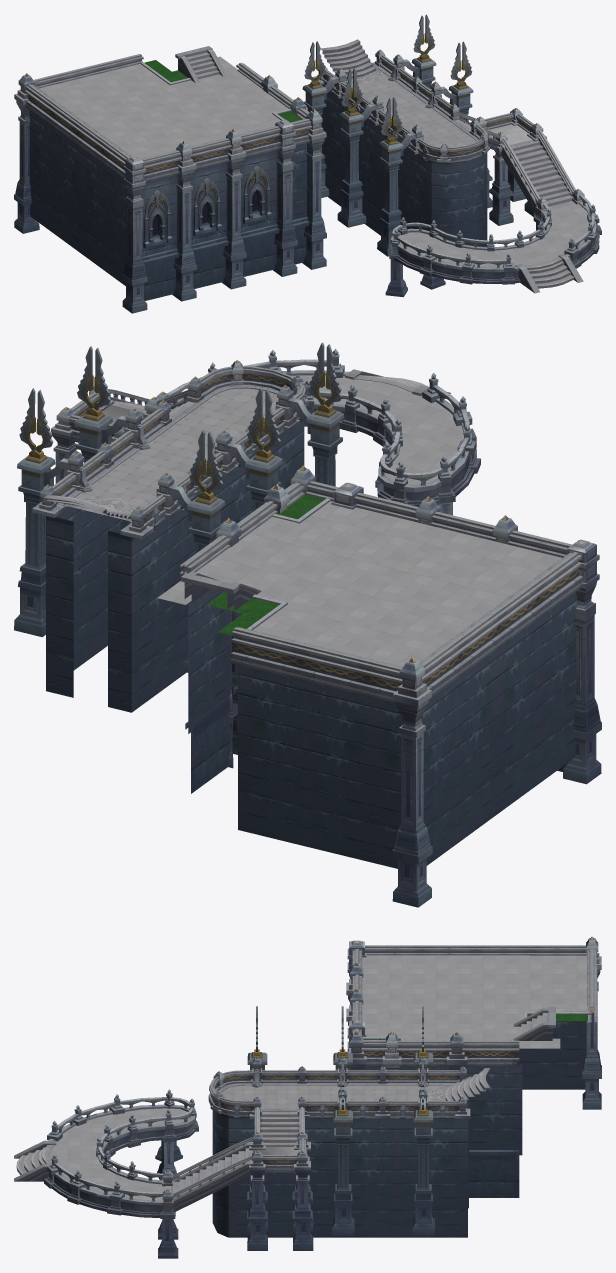
The model's file is zhuchengjianzhu_1.FBX.
3 renders of one model, top to bottom at view 1: azimuth 30°, elevation 25°; view 2: azimuth 150°, elevation 25°; view 3: azimuth 270°, elevation 25°, orthographic. The views are drawn at different scales.
Parts seen in each view (by area): view 1: zhucheng_qiangti011, zhucheng_xmjz, zhucheng_dimian011, zhucheng_xmq1, zhucheng_dimian1, zhucheng_tajjie03, zhucheng_dimian2, zhucheng_tj, zhucheng_shuixiataijie, zhucheng_xmtj, zhucheng_caoti02; view 2: zhucheng_qiangti011, zhucheng_xmjz, zhucheng_dimian011, zhucheng_xmq1, zhucheng_dimian2, zhucheng_dimian1, zhucheng_tj, zhucheng_caoti02; view 3: zhucheng_xmjz, zhucheng_qiangti011, zhucheng_dimian011, zhucheng_xmq1, zhucheng_dimian1, zhucheng_tajjie03, zhucheng_dimian2, zhucheng_tj, zhucheng_xmtj, zhucheng_shuixiataijie.
Part boxes in pixels (x1=…): zhucheng_qiangti011: x1=14, y1=54, x2=326, y2=313; zhucheng_xmjz: x1=302, y1=14, x2=584, y2=297; zhucheng_dimian011: x1=39, y1=56, x2=288, y2=158; zhucheng_xmq1: x1=389, y1=116, x2=601, y2=284; zhucheng_dimian1: x1=398, y1=124, x2=589, y2=267; zhucheng_tajjie03: x1=455, y1=119, x2=574, y2=215; zhucheng_dimian2: x1=351, y1=73, x2=476, y2=147; zhucheng_tj: x1=140, y1=46, x2=291, y2=120; zhucheng_shuixiataijie: x1=524, y1=257, x2=574, y2=288; zhucheng_xmtj: x1=515, y1=254, x2=583, y2=293; zhucheng_caoti02: x1=144, y1=60, x2=301, y2=122; zhucheng_qiangti011: x1=180, y1=465, x2=601, y2=907; zhucheng_xmjz: x1=14, y1=342, x2=452, y2=712; zhucheng_dimian011: x1=157, y1=501, x2=561, y2=666; zhucheng_xmq1: x1=109, y1=348, x2=480, y2=506; zhucheng_dimian2: x1=71, y1=388, x2=306, y2=520; zhucheng_dimian1: x1=101, y1=375, x2=463, y2=484; zhucheng_tj: x1=181, y1=498, x2=330, y2=630; zhucheng_caoti02: x1=207, y1=495, x2=324, y2=635; zhucheng_xmjz: x1=155, y1=1006, x2=490, y2=1258; zhucheng_qiangti011: x1=346, y1=936, x2=601, y2=1197; zhucheng_dimian011: x1=362, y1=955, x2=587, y2=1048; zhucheng_xmq1: x1=44, y1=1089, x2=244, y2=1218; zhucheng_dimian1: x1=50, y1=1108, x2=299, y2=1200; zhucheng_tajjie03: x1=166, y1=1111, x2=304, y2=1212; zhucheng_dimian2: x1=221, y1=1085, x2=449, y2=1108; zhucheng_tj: x1=363, y1=1007, x2=591, y2=1040; zhucheng_xmtj: x1=14, y1=1140, x2=56, y2=1181; zhucheng_shuixiataijie: x1=16, y1=1145, x2=54, y2=1175.
Bounding box in the file's own units: 1826 × 2301 × 902.
Materials: 6 (6 with a texture image).
